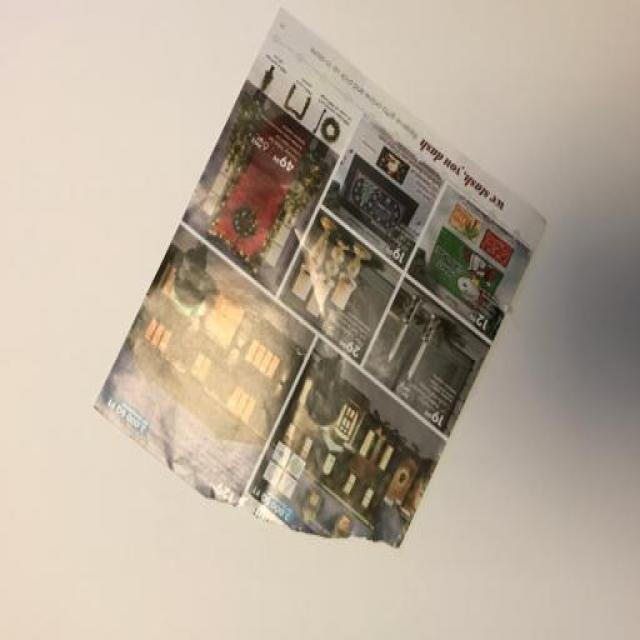paper: (80, 7, 576, 603)
